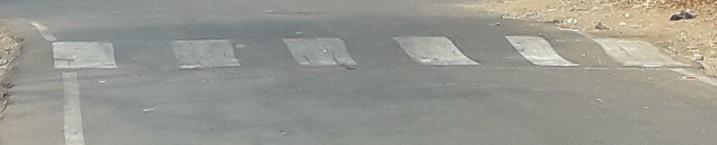speed-bump: (13, 30, 702, 80)
